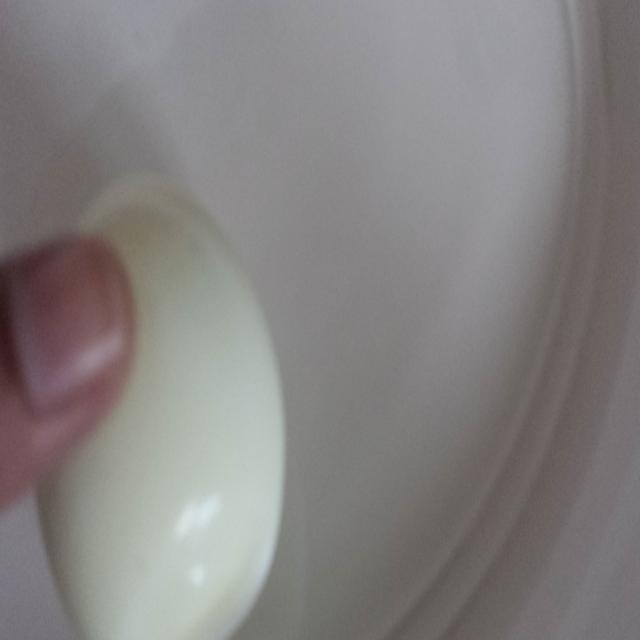egg: (26, 169, 289, 640)
